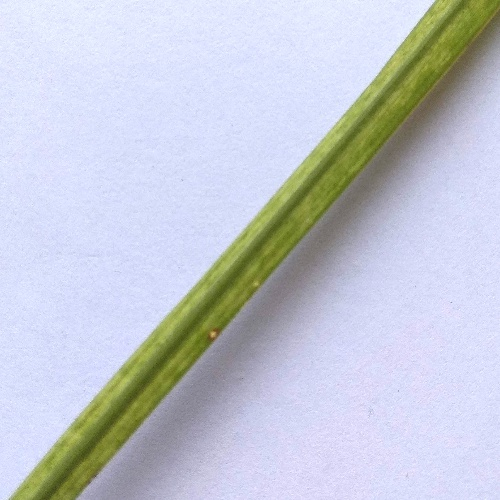Busuk Leher: (201, 323, 231, 347), (250, 275, 267, 296)
